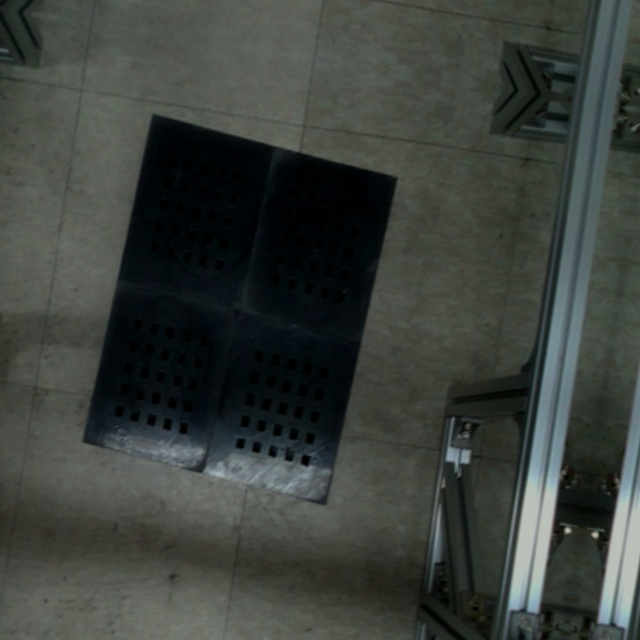pallet: (71, 100, 409, 509)
